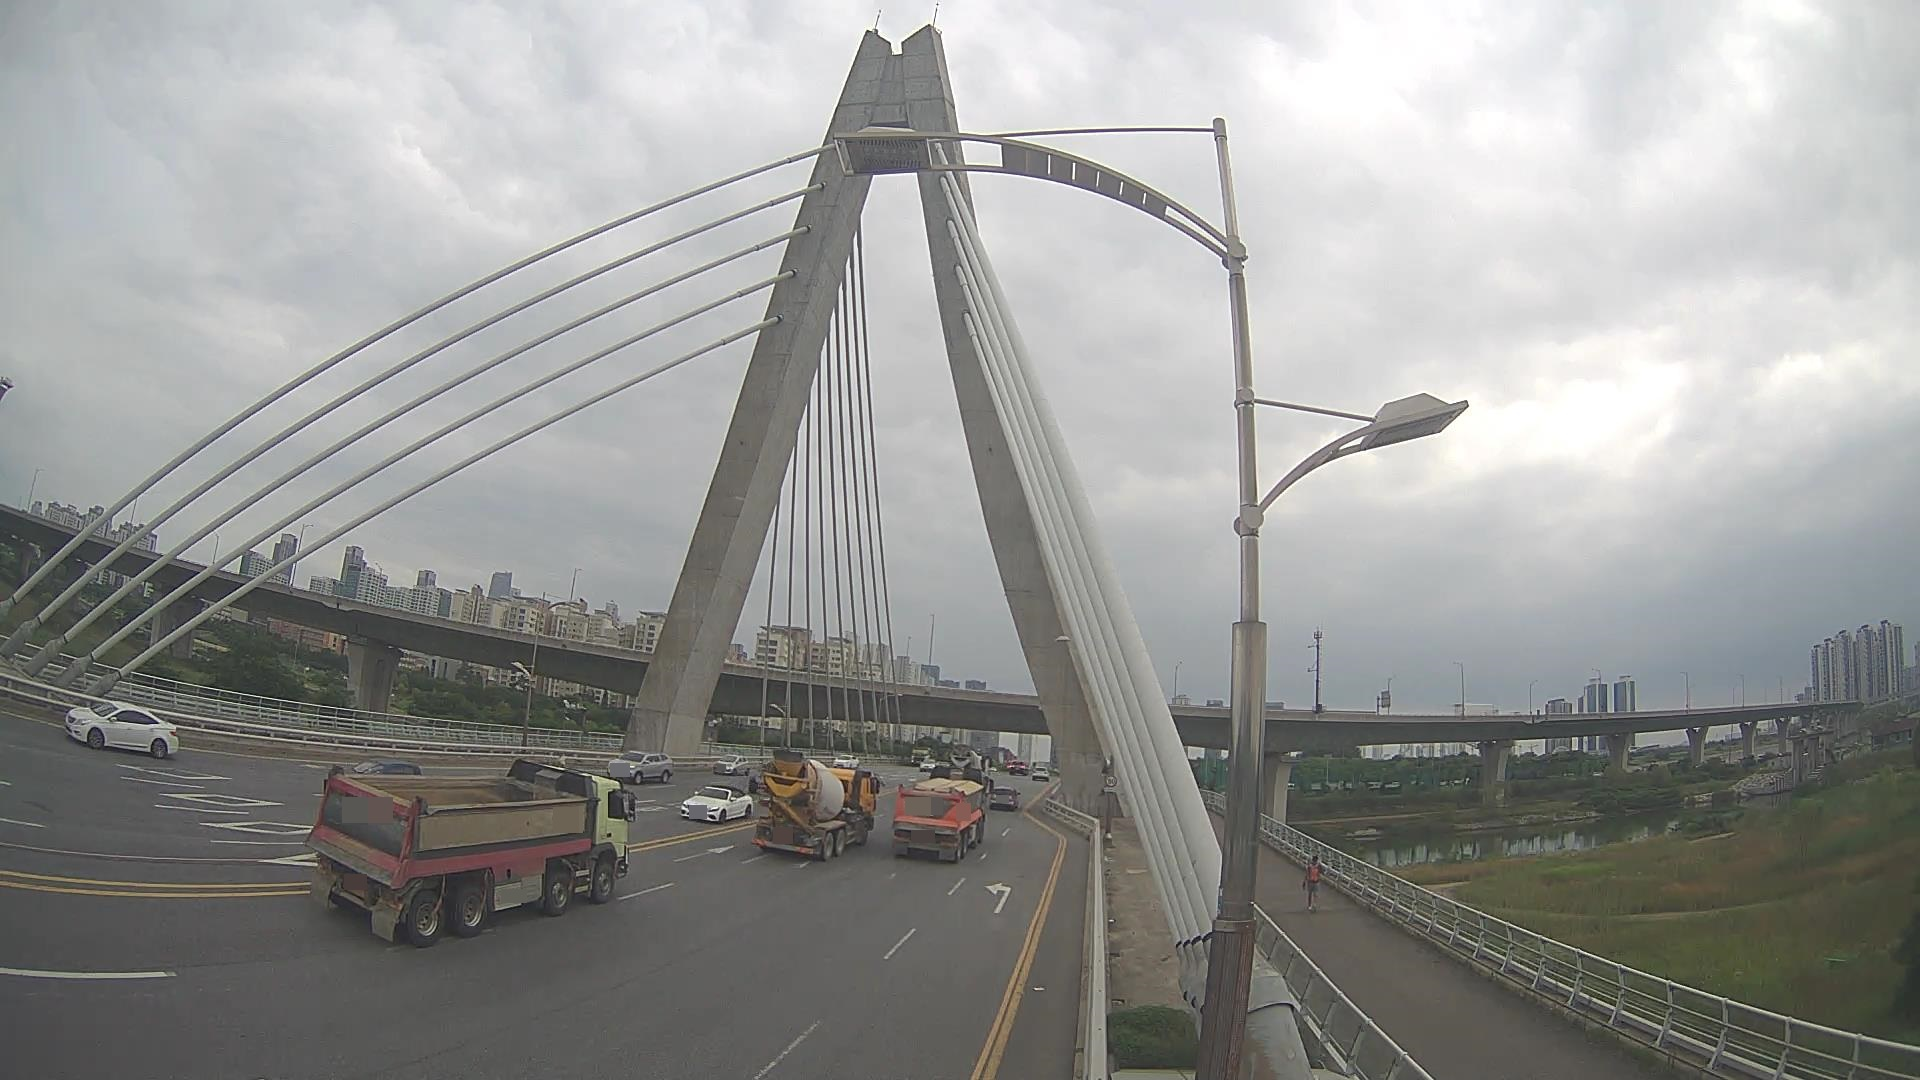정상차량: (891, 766, 994, 864)
